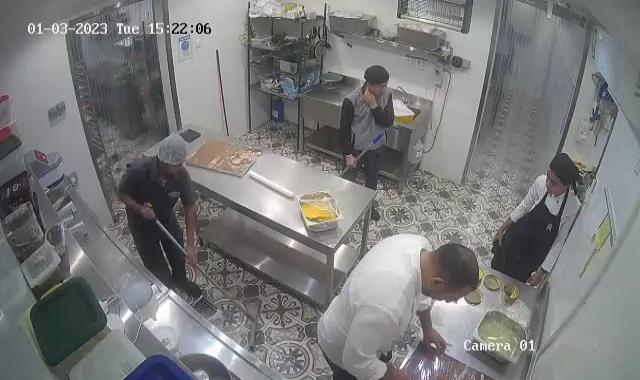hairnet: (154, 132, 189, 172)
no_hairnet: (432, 243, 482, 302), (548, 151, 582, 190), (362, 66, 392, 92)
